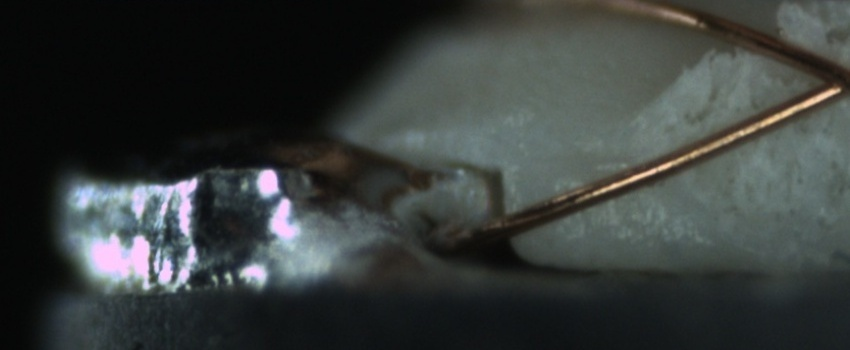CL: (797, 43, 849, 109)
DL: (551, 135, 644, 192)
